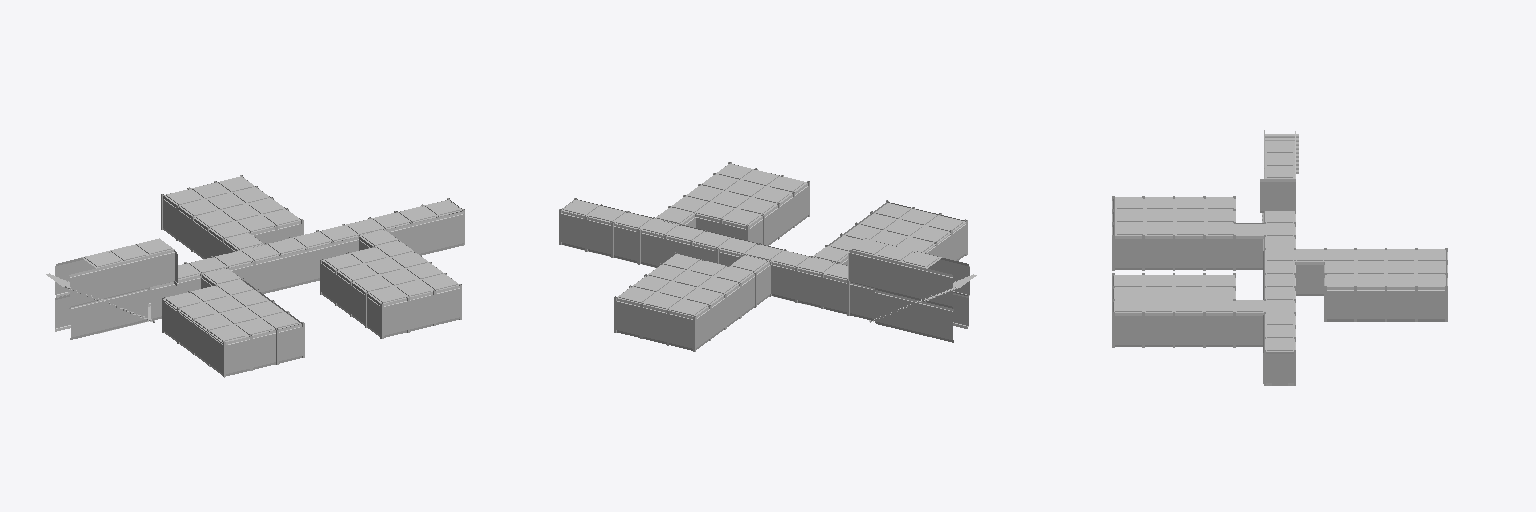
Rendered from clean_tavern_level.obj.
The picture shows the model from 3 angles: view 1: azimuth 30°, elevation 25°; view 2: azimuth 150°, elevation 25°; view 3: azimuth 270°, elevation 25°; orthographic projection.
Visible parts, largest first — view 1: houseTileCeiling01.011_houseTileCeiling01, houseTileCeiling01.009_houseTileCeiling01, houseTileCeiling01.001_houseTileCeiling01, houseTileCeiling01.005_houseTileCeiling01, houseWall01.025_houseWall01, houseWall01.015_houseWall01, houseWall01.024_houseWall01, houseWall01.014_houseWall01, houseWall01.022_houseWall01, houseWall01.038_houseWall01.027, houseWall01.041_houseWall01.031, houseWall01.012_houseWall01.029 (+12 smaller); view 2: houseTileCeiling01.011_houseTileCeiling01, houseTileCeiling01.009_houseTileCeiling01, houseTileCeiling01.005_houseTileCeiling01, houseTileCeiling01.001_houseTileCeiling01, houseWall01.020_houseWall01, houseWall01.022_houseWall01, houseWall01.024_houseWall01, houseWall01.001_houseWall01.024, houseWall01.010_houseWall01.025, houseWall01.043_houseWall01.034, houseWall01.044_houseWall01.035, houseWall01.042_houseWall01.033 (+12 smaller); view 3: houseTileCeiling01.001_houseTileCeiling01, houseWall01.017_houseWall01, houseWall01.027_houseWall01, houseTileCeiling01.011_houseTileCeiling01, houseTileCeiling01.009_houseTileCeiling01, houseTileCeiling01.005_houseTileCeiling01, houseWall01.019_houseWall01, houseWall01.023_houseWall01, houseWall01.007_houseWall01.008, houseWallDoor01.009_houseWall01.
Part boxes in pixels (x1,y1,x2,y2): houseTileCeiling01.011_houseTileCeiling01: (322, 241, 458, 303); houseTileCeiling01.009_houseTileCeiling01: (165, 176, 300, 238); houseTileCeiling01.001_houseTileCeiling01: (163, 280, 300, 342); houseTileCeiling01.005_houseTileCeiling01: (178, 200, 461, 279); houseWall01.025_houseWall01: (384, 286, 459, 337); houseWall01.015_houseWall01: (226, 324, 302, 375); houseWall01.024_houseWall01: (321, 261, 379, 336); houseWall01.014_houseWall01: (164, 300, 222, 375); houseWall01.022_houseWall01: (163, 196, 236, 258); houseWall01.038_houseWall01.027: (256, 250, 308, 293); houseWall01.041_houseWall01.031: (412, 211, 464, 255); houseWall01.012_houseWall01.029: (306, 237, 358, 282); houseTileCeiling01.011_houseTileCeiling01: (671, 164, 806, 225); houseTileCeiling01.009_houseTileCeiling01: (618, 254, 753, 316); houseTileCeiling01.005_houseTileCeiling01: (562, 200, 847, 279); houseTileCeiling01.001_houseTileCeiling01: (828, 203, 965, 252); houseWall01.020_houseWall01: (616, 298, 692, 350); houseWall01.022_houseWall01: (696, 262, 770, 349); houseWall01.024_houseWall01: (748, 183, 808, 245); houseWall01.001_houseWall01.024: (823, 275, 874, 320); houseWall01.010_houseWall01.025: (771, 262, 820, 307); houseWall01.043_houseWall01.034: (587, 217, 636, 262); houseWall01.044_houseWall01.035: (561, 211, 610, 254); houseWall01.042_houseWall01.033: (641, 230, 693, 267); houseTileCeiling01.001_houseTileCeiling01: (1115, 197, 1235, 235); houseWall01.017_houseWall01: (1115, 236, 1263, 269); houseWall01.027_houseWall01: (1115, 313, 1263, 346); houseTileCeiling01.011_houseTileCeiling01: (1114, 275, 1234, 312); houseTileCeiling01.009_houseTileCeiling01: (1325, 249, 1445, 286); houseTileCeiling01.005_houseTileCeiling01: (1265, 211, 1294, 351); houseWall01.019_houseWall01: (1327, 287, 1444, 321); houseWall01.023_houseWall01: (1296, 262, 1323, 295); houseWall01.007_houseWall01.008: (1266, 179, 1295, 210); houseWallDoor01.009_houseWall01: (1266, 352, 1293, 385).
Size of the model in its own units: 46.01 by 7.52 by 33.25.